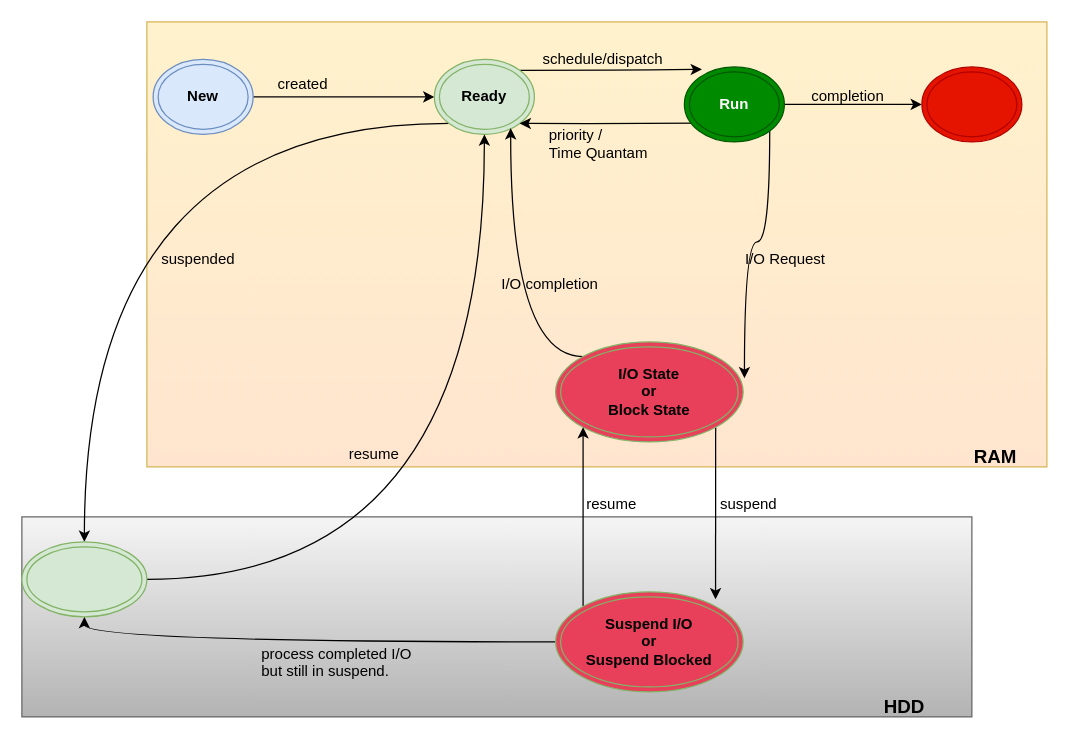
The diagram is 1069 pixels wide and 740 high, and some of its shapes have lost their labels. Here are the shapes that lost their labels. From the top down, the centre of each, then its label:
At (971,104): "Terminated".
At (84,579): "Suspend Ready".
